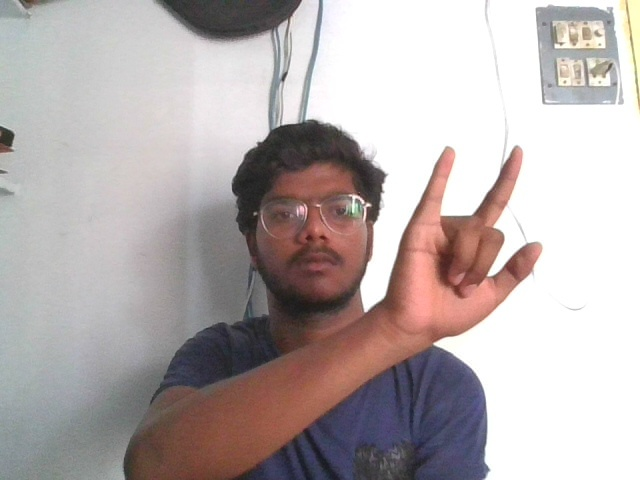IloveYou: (384, 143, 544, 340)
